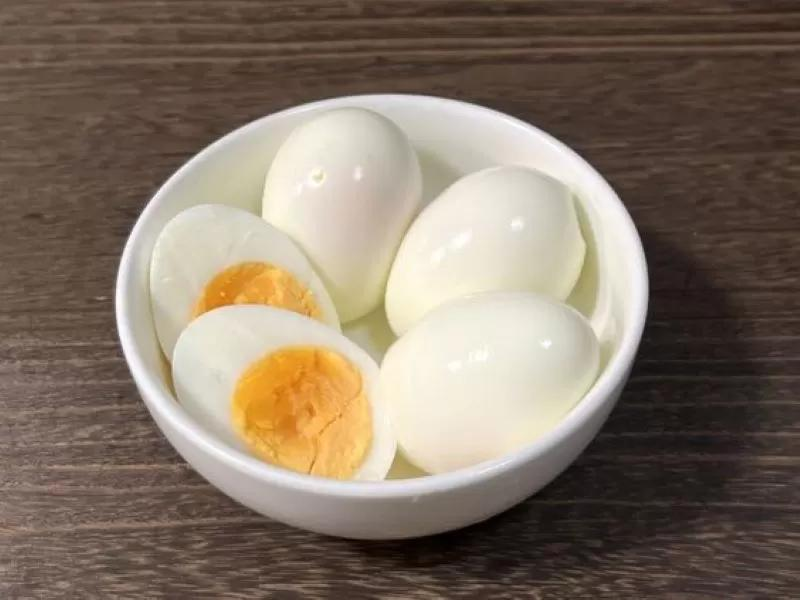telur: (401, 326, 563, 420), (197, 328, 337, 428), (309, 121, 388, 253), (433, 195, 543, 287), (169, 226, 258, 304)
